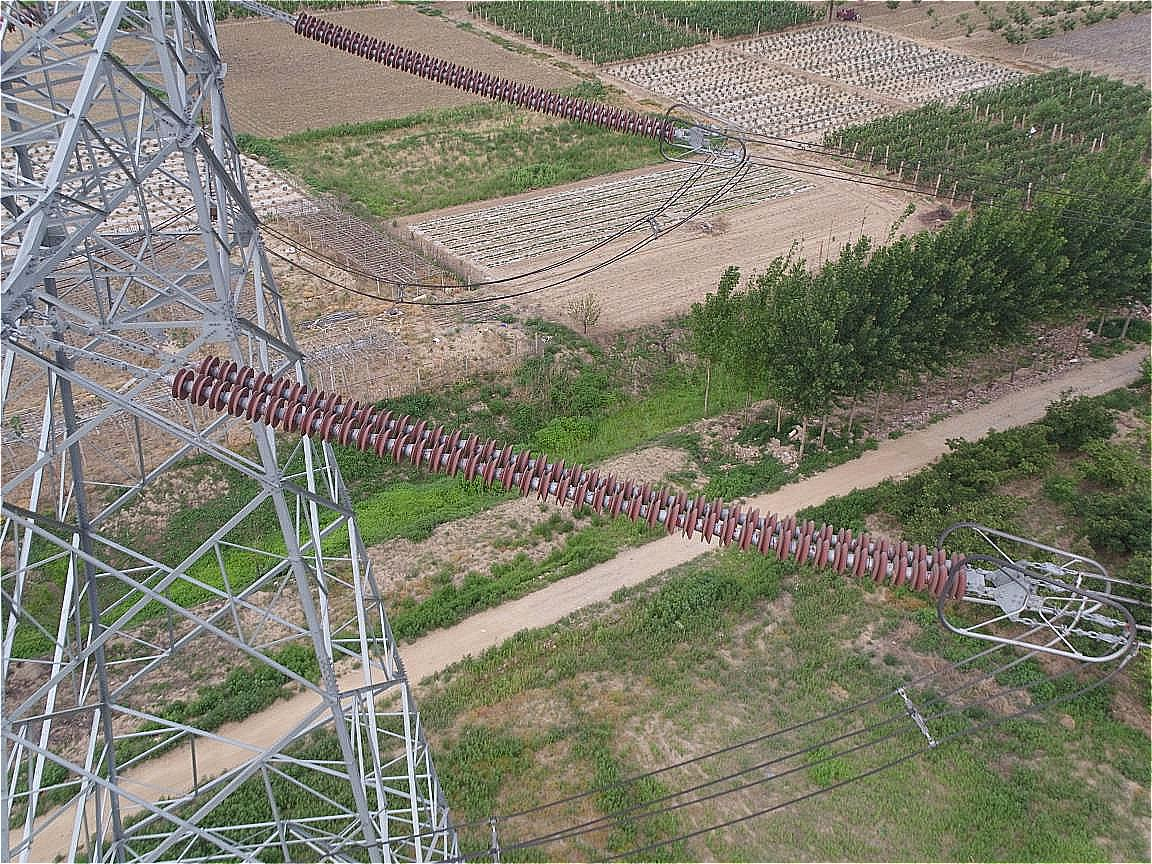insultor2: (132, 353, 982, 590), (285, 14, 664, 142)
